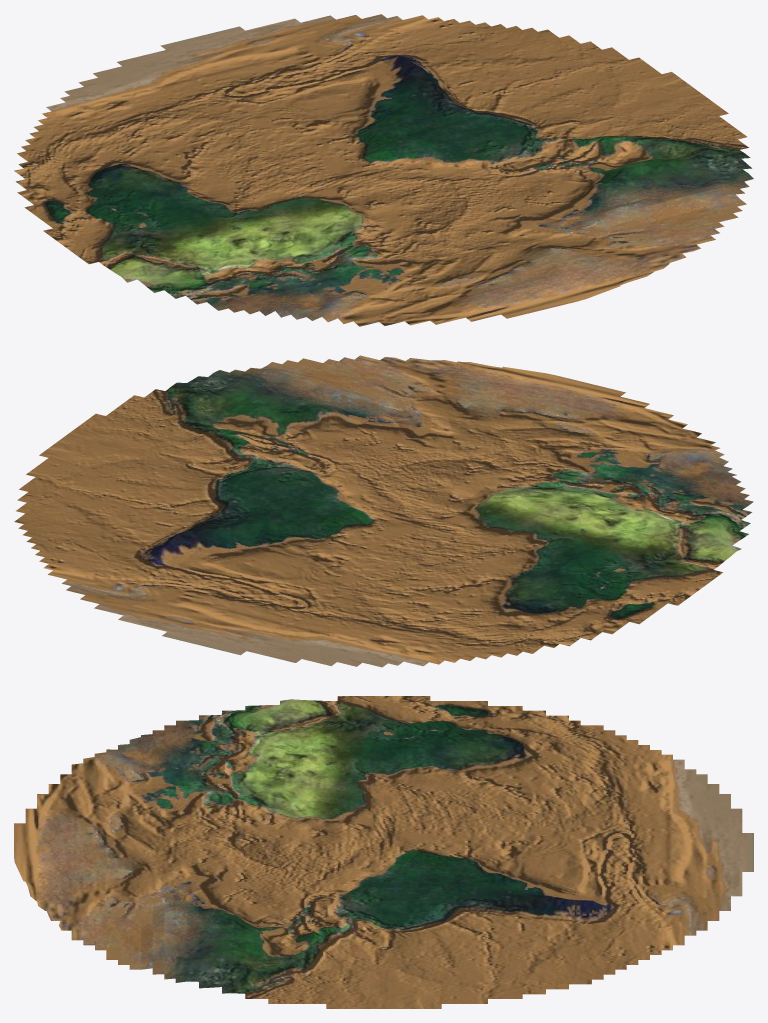
File: flatearth.fbx
The picture shows the model from 3 angles, top to bottom: view 1: azimuth 30°, elevation 25°; view 2: azimuth 150°, elevation 25°; view 3: azimuth 270°, elevation 25°; orthographic projection.
Parts seen in each view (by area): view 1: FlatEarth; view 2: FlatEarth; view 3: FlatEarth.
Boxes of the visible parts, left/top/right/bottom form: FlatEarth: left=14, top=14, right=753, bottom=326; FlatEarth: left=14, top=355, right=753, bottom=667; FlatEarth: left=14, top=696, right=753, bottom=1008.
Size of the model in its own units: 4 by 0.0807 by 4.
Materials: 1 (1 with a texture image).
